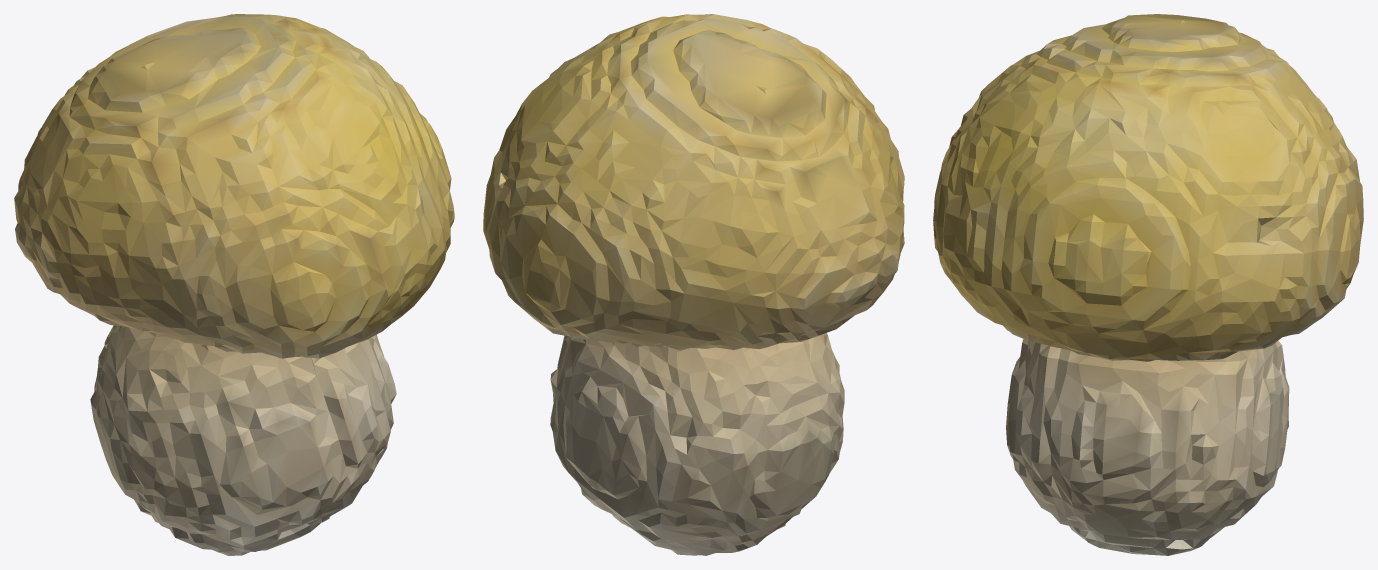
File: mushroom_gold.glb
3 views of the same model, side by side, from view 1: azimuth 30°, elevation 25°; view 2: azimuth 150°, elevation 25°; view 3: azimuth 270°, elevation 25° (orthographic).
Parts seen in each view (by area): view 1: world; view 2: world; view 3: world.
Boxes of the visible parts, x1,y1,x2,y2 form: world: [14, 14, 454, 555]; world: [483, 14, 904, 555]; world: [933, 14, 1363, 555].
Bounding box in the file's own units: 0.3167 × 0.4 × 0.3066.
